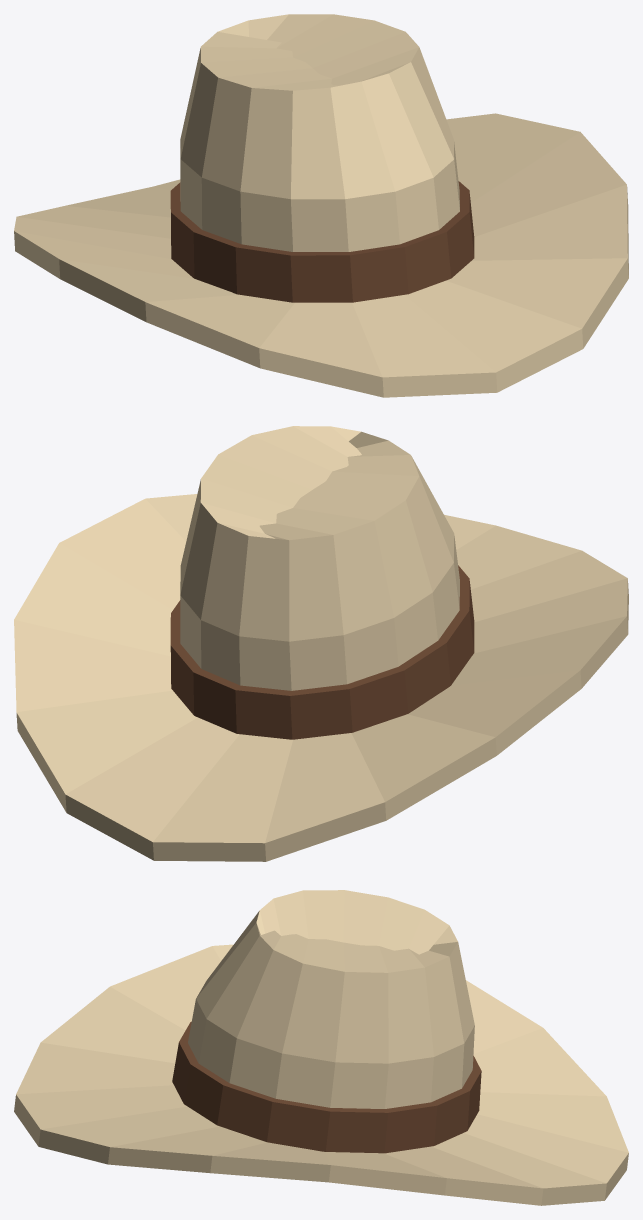
The model's file is hat_deputy.glb.
The picture shows the model from 3 angles, top to bottom: view 1: azimuth 30°, elevation 25°; view 2: azimuth 150°, elevation 25°; view 3: azimuth 270°, elevation 25°; orthographic projection. The views are drawn at different scales.
Parts seen in each view (by area): view 1: Prop_Hat_Deputy; view 2: Prop_Hat_Deputy; view 3: Prop_Hat_Deputy.
Boxes of the visible parts, box(x1,y1,x2,y2) form: Prop_Hat_Deputy: box(14, 14, 628, 397); Prop_Hat_Deputy: box(14, 426, 628, 861); Prop_Hat_Deputy: box(14, 890, 628, 1205).
Size of the model in its own units: 0.4524 by 0.2299 by 0.5176.
